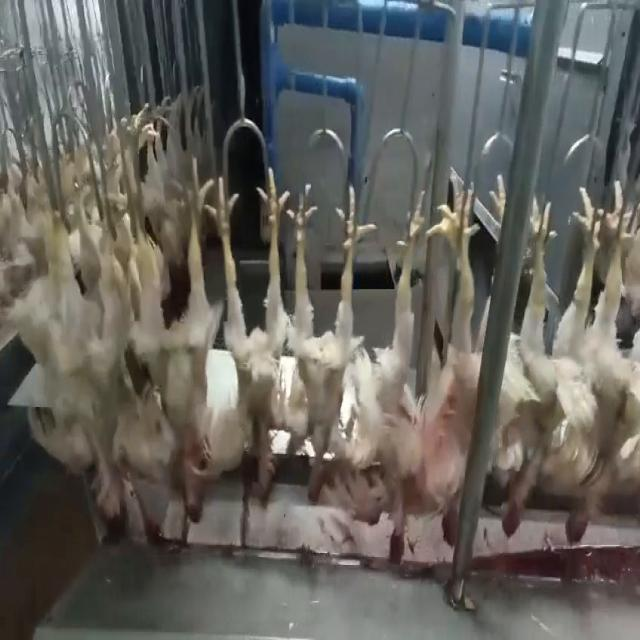chicken: (338, 161, 428, 564), (492, 177, 587, 547), (416, 163, 503, 552), (275, 167, 366, 513), (565, 179, 639, 545), (222, 151, 293, 512), (84, 172, 151, 528), (152, 149, 212, 526)
